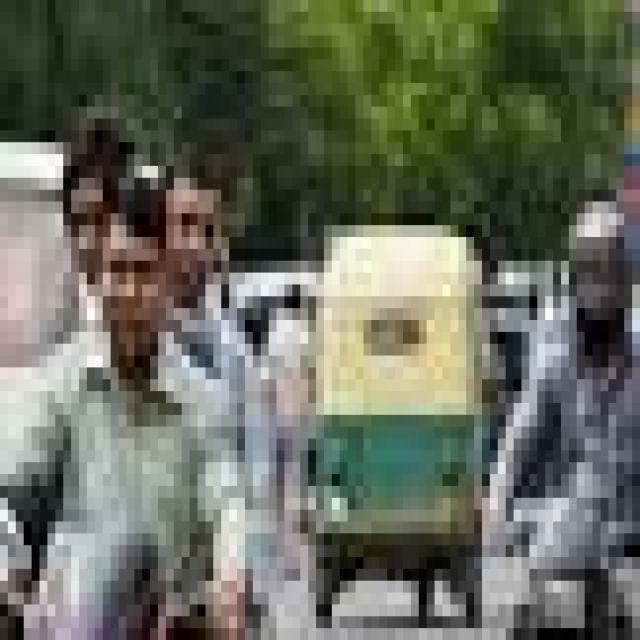bike: (0, 498, 300, 640), (498, 474, 640, 640)
